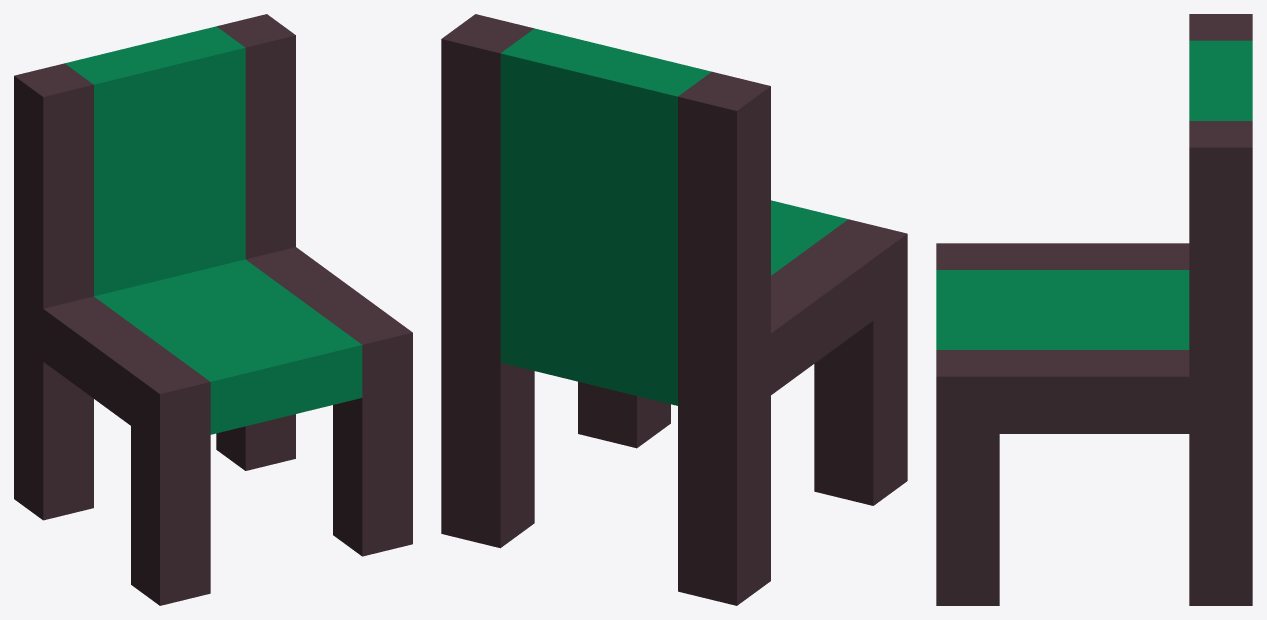
File: chair_c_green.obj
The picture shows the model from 3 angles, left to right: view 1: azimuth 30°, elevation 25°; view 2: azimuth 150°, elevation 25°; view 3: azimuth 270°, elevation 25°; orthographic projection. The views are drawn at different scales.
Bounding box in the file's own units: 0.5 × 0.8 × 0.5.
Materials: 1 (1 with a texture image).
